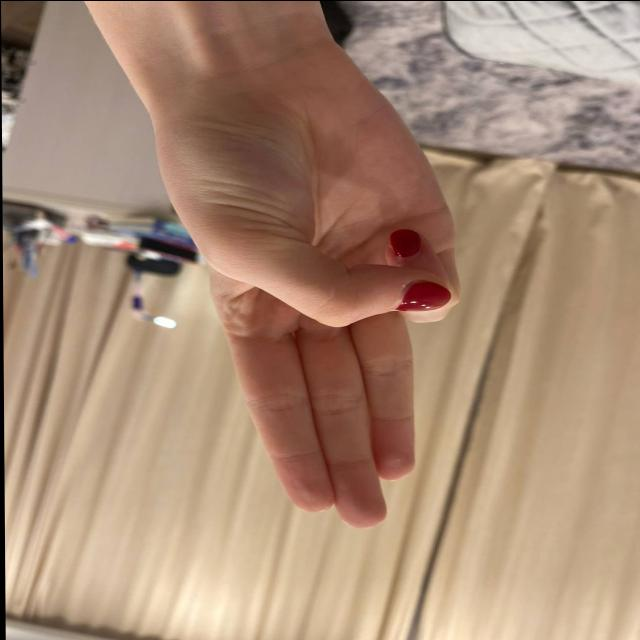sh: (172, 106, 483, 522)
